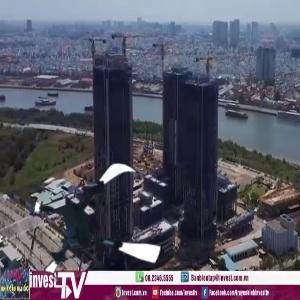drone: (34, 159, 169, 294)
